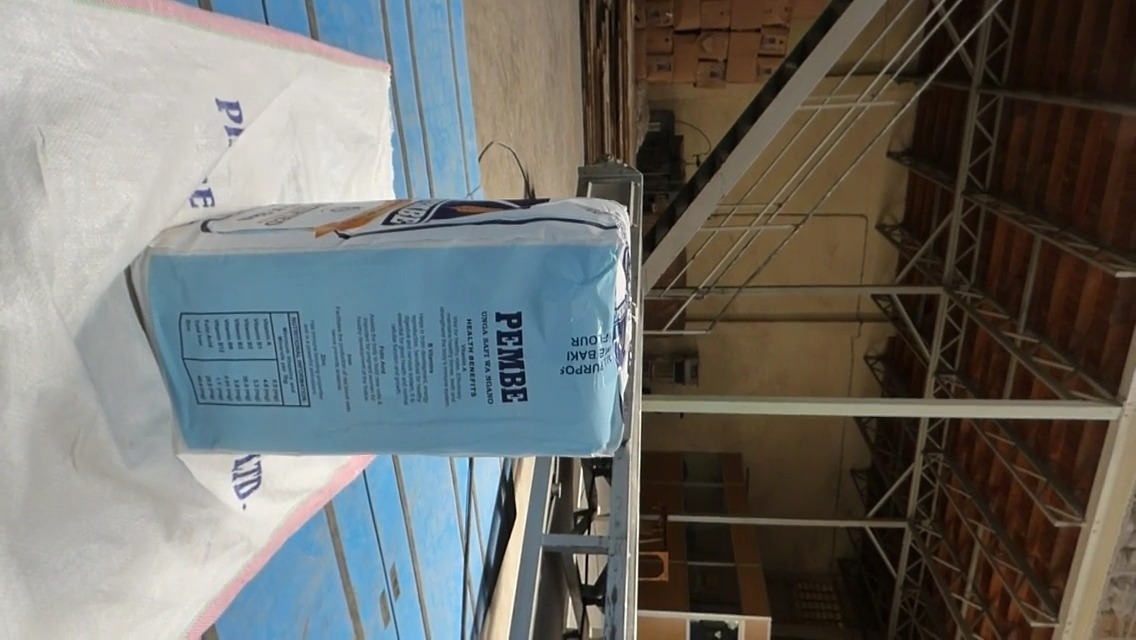wheat_flour_blue_label: (140, 195, 629, 463)
